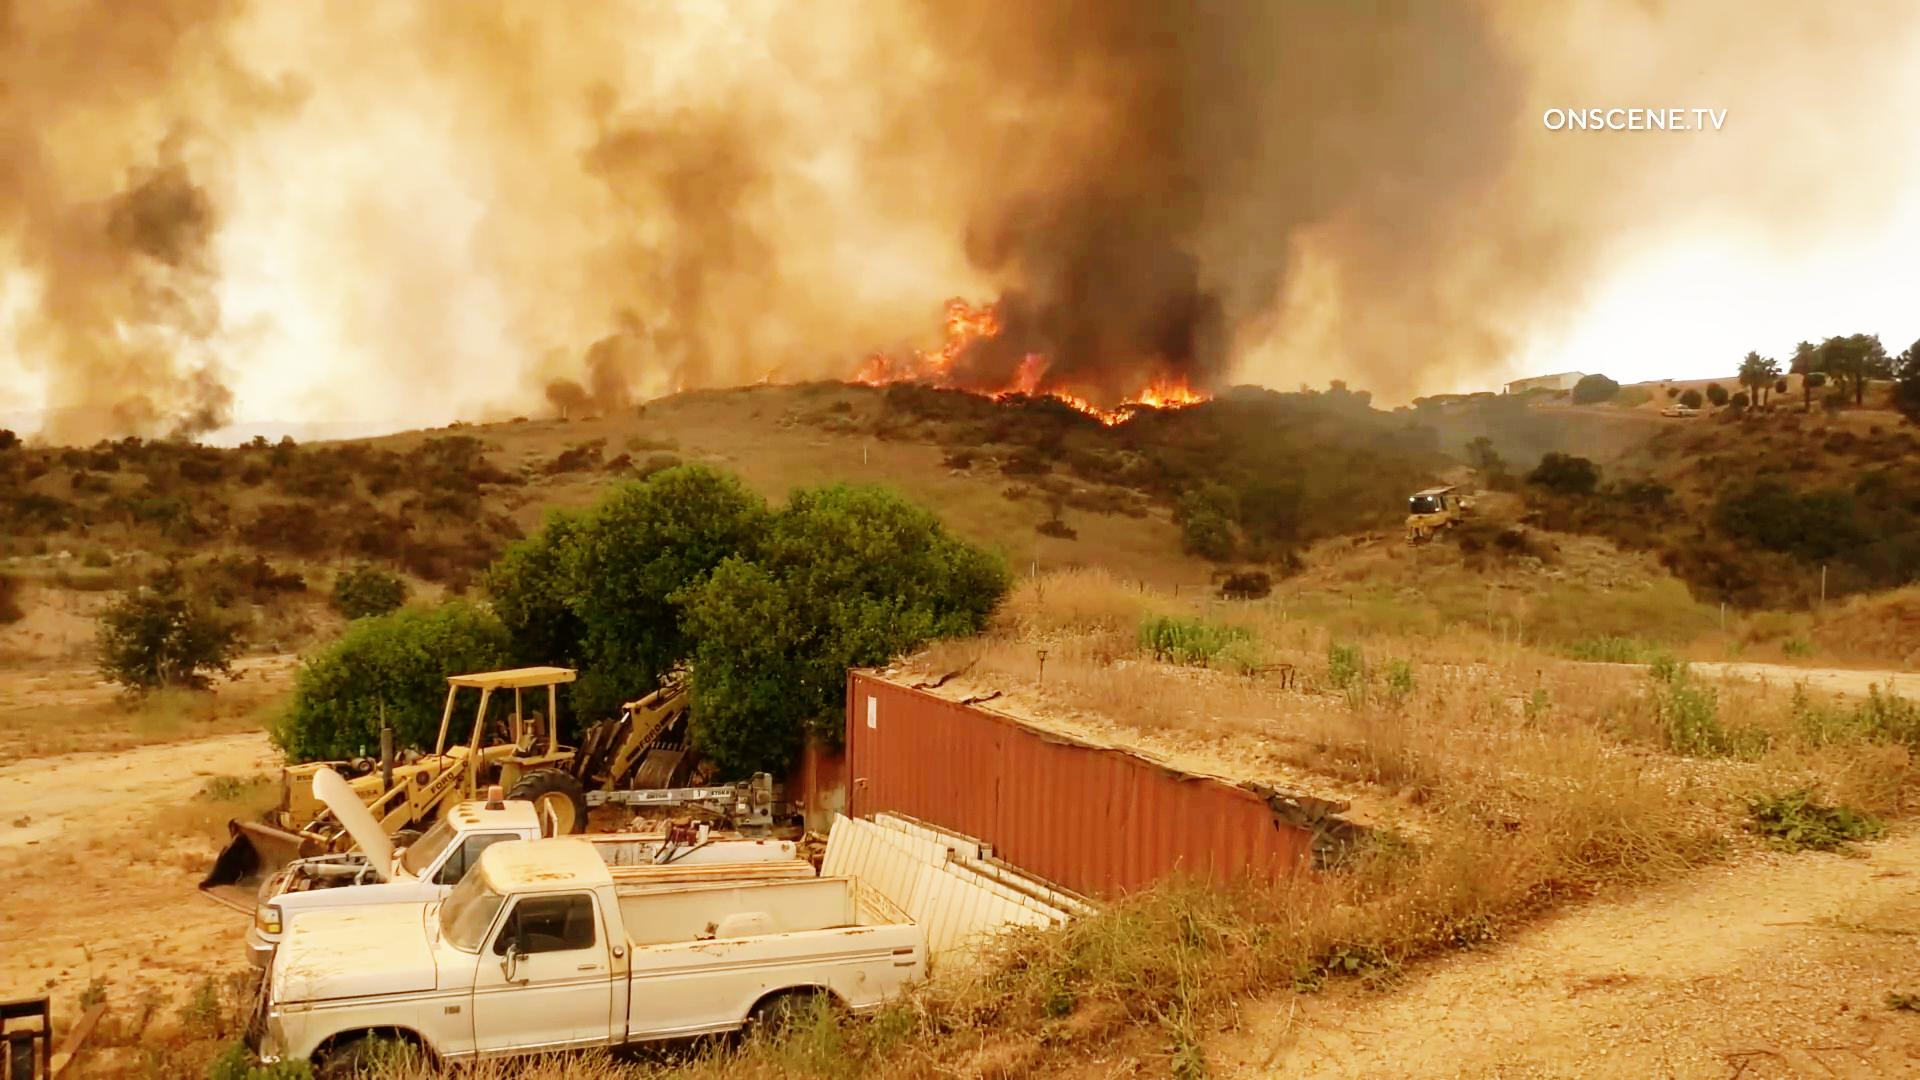fire: (934, 309, 1011, 398), (1137, 376, 1216, 417)
smoke: (1004, 8, 1221, 356), (29, 86, 237, 381)
